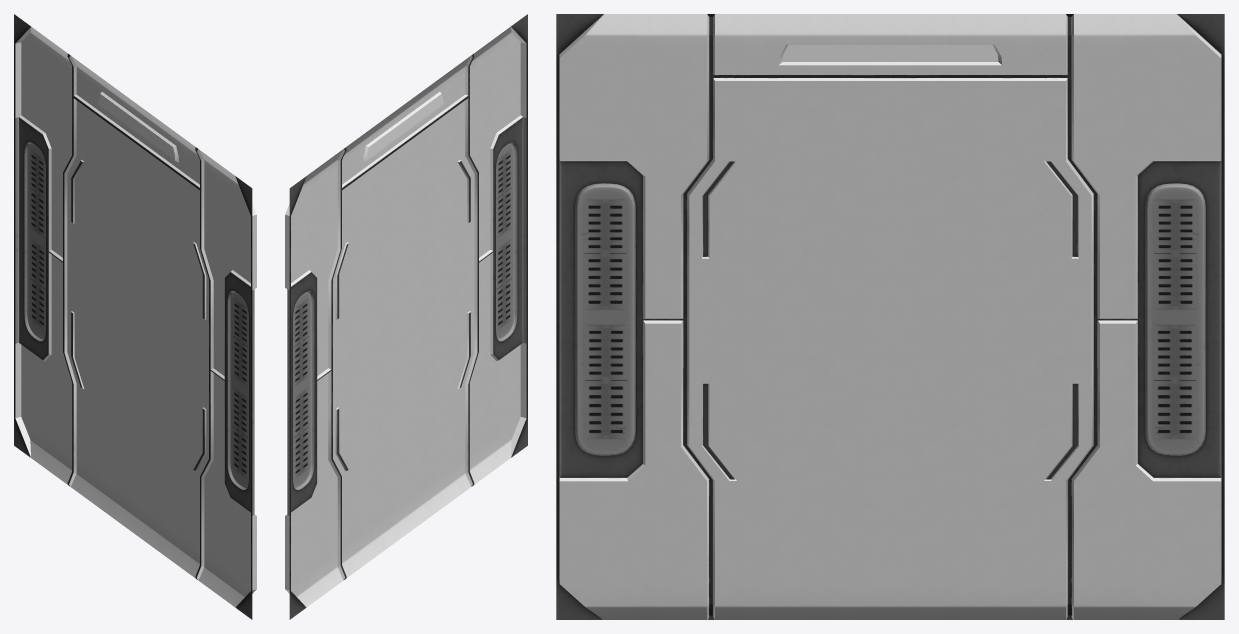
File: SM_MWall03-350x350-1.FBX
3 views of the same model, side by side, from view 1: azimuth 30°, elevation 25°; view 2: azimuth 150°, elevation 25°; view 3: azimuth 270°, elevation 25° (orthographic). The views are drawn at different scales.
Parts seen in each view (by area): view 1: SM_MWall03-350x350-1; view 2: SM_MWall03-350x350-1; view 3: SM_MWall03-350x350-1.
Boxes of the visible parts, <box> form: SM_MWall03-350x350-1: <box>14,14,256,619</box>; SM_MWall03-350x350-1: <box>285,14,527,619</box>; SM_MWall03-350x350-1: <box>556,14,1224,619</box>.
Size of what is drawn, in the model's own units: 5.91 by 350 by 350.
